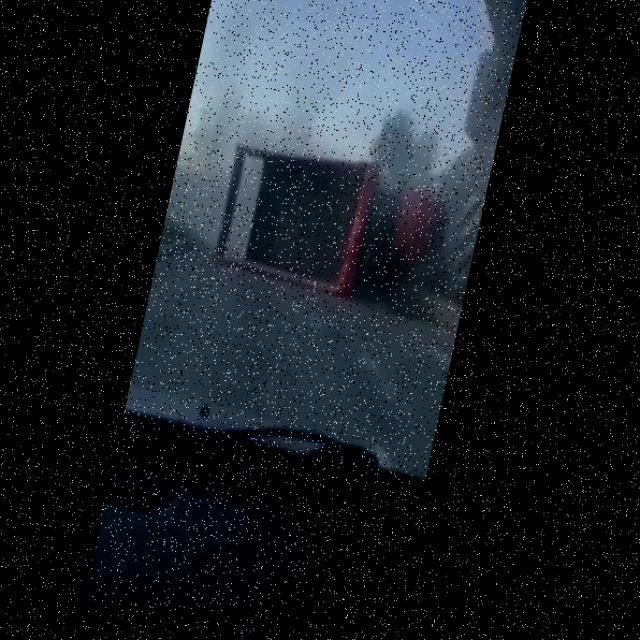accident: (202, 121, 459, 326)
